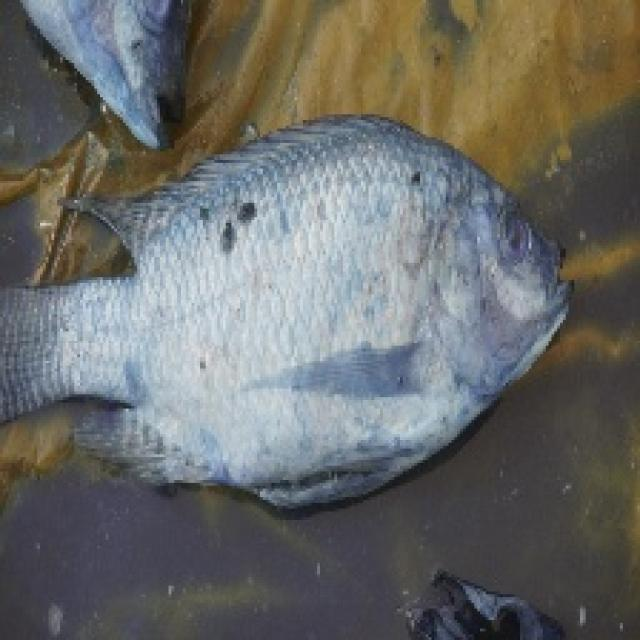Non-Fresh: (39, 142, 593, 517)
